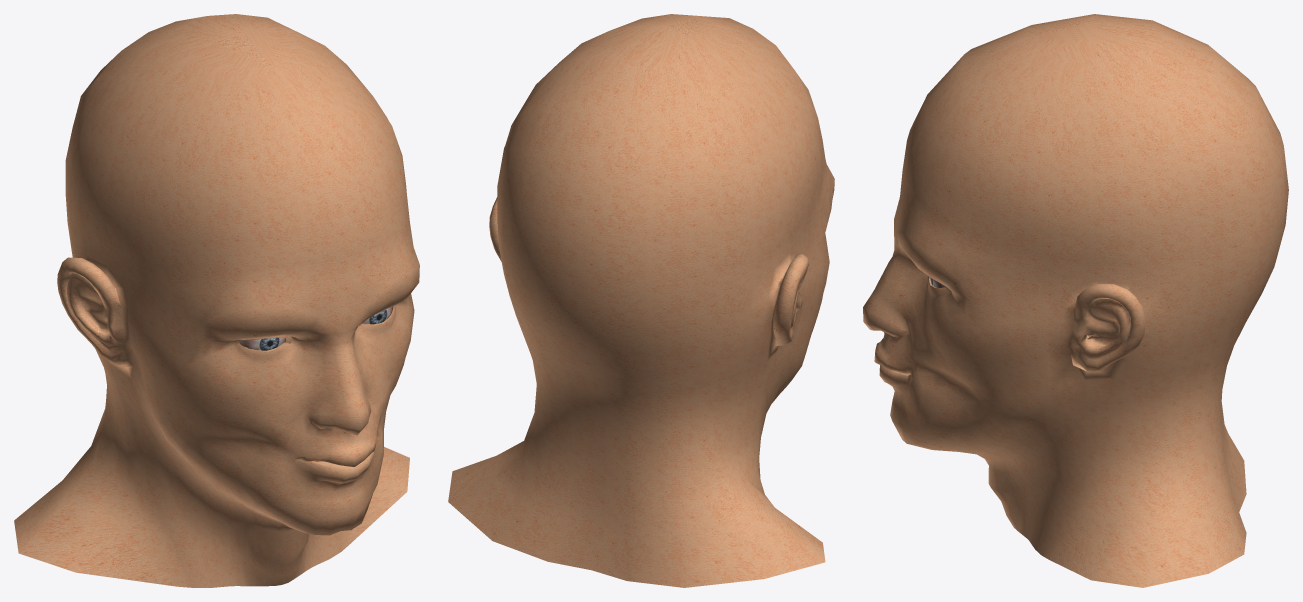
The model's file is cool.FBX.
The picture shows the model from 3 angles, left to right: view 1: azimuth 30°, elevation 25°; view 2: azimuth 150°, elevation 25°; view 3: azimuth 270°, elevation 25°; orthographic projection. The views are drawn at different scales.
Visible parts, largest first — view 1: head; view 2: head; view 3: head.
Part boxes in pixels (x1,y1,x2,y2): head: (14,14,419,587); head: (448,14,834,587); head: (863,14,1288,587).
Size of the model in its own units: 44.22 by 43.6 by 56.51.
4 materials, 2 textured.
